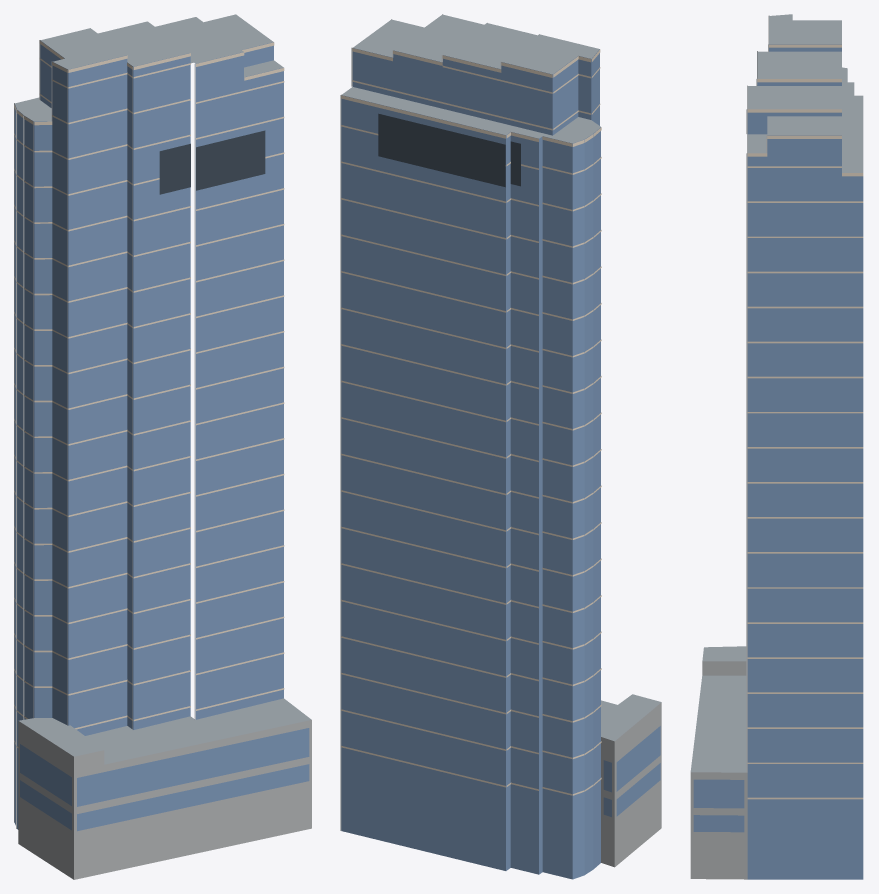
File: bos-millennium-tower.glb
3 views of the same model, side by side, from view 1: azimuth 30°, elevation 25°; view 2: azimuth 150°, elevation 25°; view 3: azimuth 270°, elevation 25° (orthographic). The views are drawn at different scales.
Visible parts, largest first — view 1: Millennium Tower; view 2: Millennium Tower; view 3: Millennium Tower.
Boxes of the visible parts, x1,y1,x2,y2 form: Millennium Tower: [14, 14, 311, 879]; Millennium Tower: [340, 14, 661, 879]; Millennium Tower: [690, 14, 863, 879].
Size of the model in its own units: 68.72 by 215 by 44.32.
